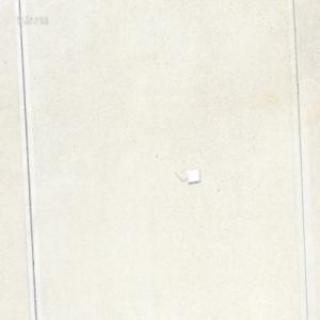LuggageTagtrack_idkeyframe: (172, 165, 200, 183)
